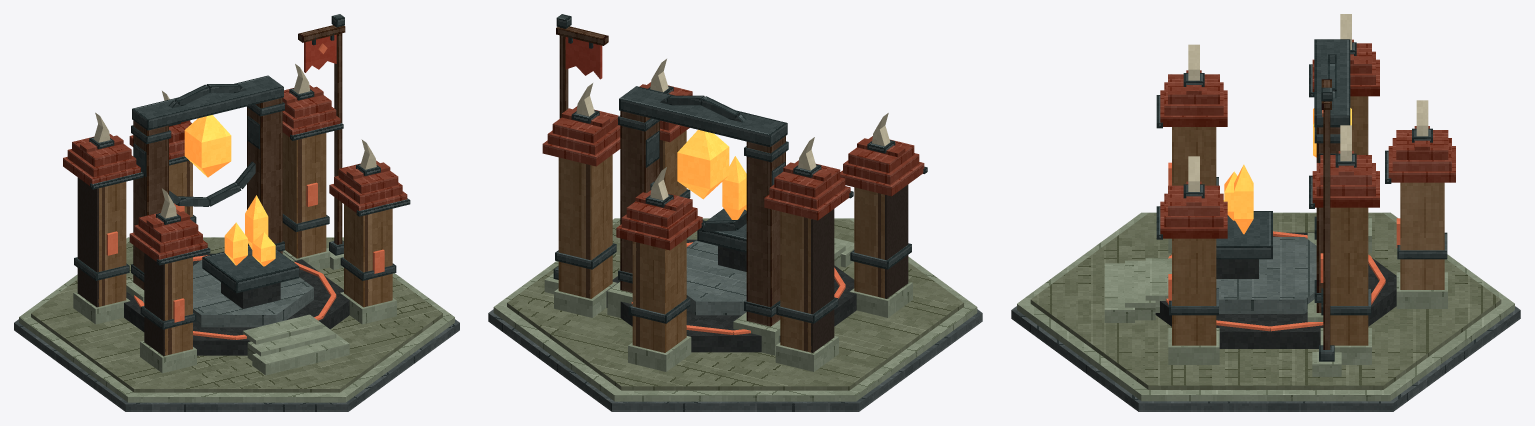
The model's file is orc_infernal_ritual_hex_v1.glb.
3 views of the same model, side by side, from view 1: azimuth 30°, elevation 25°; view 2: azimuth 150°, elevation 25°; view 3: azimuth 270°, elevation 25° (orthographic). The views are drawn at different scales.
Parts seen in each view (by area): view 1: Orc_Infernal_Ritual_Hex_V1_Hall, Orc_Infernal_Ritual_Hex_V1_Foundation, Orc_Infernal_Ritual_Hex_V1_Roofs, Orc_Infernal_Ritual_Hex_V1_Courtyard, Orc_Infernal_Ritual_Hex_V1_Focus, Orc_Infernal_Ritual_Hex_V1_Faction, Orc_Infernal_Ritual_Hex_V1_Details, Orc_Infernal_Ritual_Hex_V1_Training; view 2: Orc_Infernal_Ritual_Hex_V1_Hall, Orc_Infernal_Ritual_Hex_V1_Foundation, Orc_Infernal_Ritual_Hex_V1_Roofs, Orc_Infernal_Ritual_Hex_V1_Focus, Orc_Infernal_Ritual_Hex_V1_Courtyard, Orc_Infernal_Ritual_Hex_V1_Faction, Orc_Infernal_Ritual_Hex_V1_Details, Orc_Infernal_Ritual_Hex_V1_Training; view 3: Orc_Infernal_Ritual_Hex_V1_Foundation, Orc_Infernal_Ritual_Hex_V1_Hall, Orc_Infernal_Ritual_Hex_V1_Roofs, Orc_Infernal_Ritual_Hex_V1_Courtyard, Orc_Infernal_Ritual_Hex_V1_Focus, Orc_Infernal_Ritual_Hex_V1_Faction, Orc_Infernal_Ritual_Hex_V1_Details, Orc_Infernal_Ritual_Hex_V1_Training.
Boxes of the visible parts, left/top/right/bottom form: Orc_Infernal_Ritual_Hex_V1_Hall: left=73, top=75, right=396, bottom=373; Orc_Infernal_Ritual_Hex_V1_Foundation: left=14, top=237, right=459, bottom=411; Orc_Infernal_Ritual_Hex_V1_Roofs: left=63, top=64, right=410, bottom=265; Orc_Infernal_Ritual_Hex_V1_Courtyard: left=124, top=253, right=349, bottom=375; Orc_Infernal_Ritual_Hex_V1_Focus: left=106, top=84, right=384, bottom=322; Orc_Infernal_Ritual_Hex_V1_Faction: left=298, top=14, right=345, bottom=269; Orc_Infernal_Ritual_Hex_V1_Details: left=74, top=214, right=396, bottom=329; Orc_Infernal_Ritual_Hex_V1_Training: left=134, top=255, right=336, bottom=339; Orc_Infernal_Ritual_Hex_V1_Hall: left=554, top=86, right=912, bottom=371; Orc_Infernal_Ritual_Hex_V1_Foundation: left=488, top=218, right=982, bottom=411; Orc_Infernal_Ritual_Hex_V1_Roofs: left=542, top=59, right=927, bottom=250; Orc_Infernal_Ritual_Hex_V1_Focus: left=645, top=95, right=785, bottom=271; Orc_Infernal_Ritual_Hex_V1_Courtyard: left=606, top=238, right=856, bottom=352; Orc_Infernal_Ritual_Hex_V1_Faction: left=544, top=14, right=608, bottom=294; Orc_Infernal_Ritual_Hex_V1_Details: left=555, top=189, right=911, bottom=323; Orc_Infernal_Ritual_Hex_V1_Training: left=631, top=242, right=845, bottom=334; Orc_Infernal_Ritual_Hex_V1_Foundation: left=1011, top=212, right=1520, bottom=411; Orc_Infernal_Ritual_Hex_V1_Hall: left=1168, top=39, right=1447, bottom=364; Orc_Infernal_Ritual_Hex_V1_Roofs: left=1156, top=14, right=1455, bottom=239; Orc_Infernal_Ritual_Hex_V1_Courtyard: left=1104, top=232, right=1396, bottom=348; Orc_Infernal_Ritual_Hex_V1_Focus: left=1168, top=54, right=1400, bottom=303; Orc_Infernal_Ritual_Hex_V1_Faction: left=1312, top=79, right=1341, bottom=376; Orc_Infernal_Ritual_Hex_V1_Details: left=1169, top=177, right=1447, bottom=315; Orc_Infernal_Ritual_Hex_V1_Training: left=1166, top=231, right=1385, bottom=331.
Size of the model in its own units: 1.59 by 1.2 by 1.84.
1 material, 1 textured.
